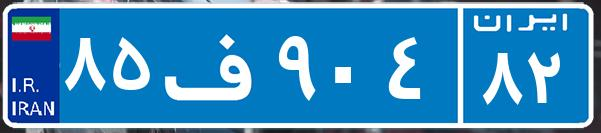0: (330, 28, 385, 110)
2: (525, 38, 570, 115)
4: (385, 28, 445, 110)
5: (110, 28, 158, 105)
8: (57, 26, 110, 107), (475, 38, 525, 113)
9: (273, 28, 330, 110)
ف: (158, 15, 273, 115)
